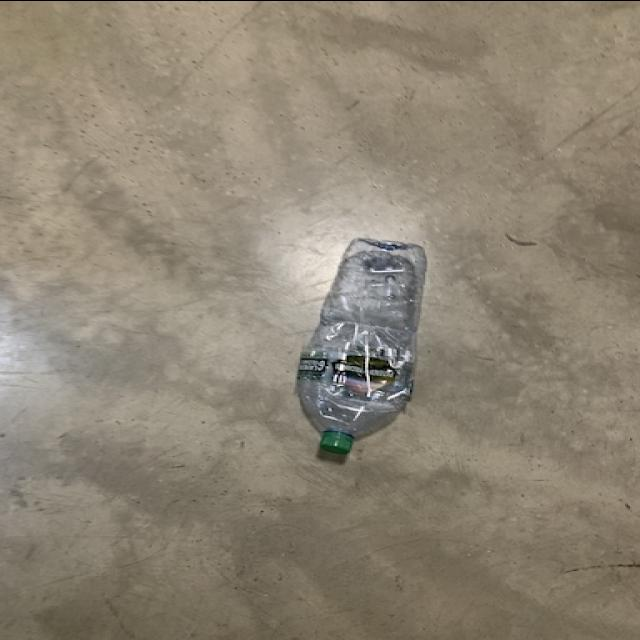PET: (296, 232, 426, 456)
